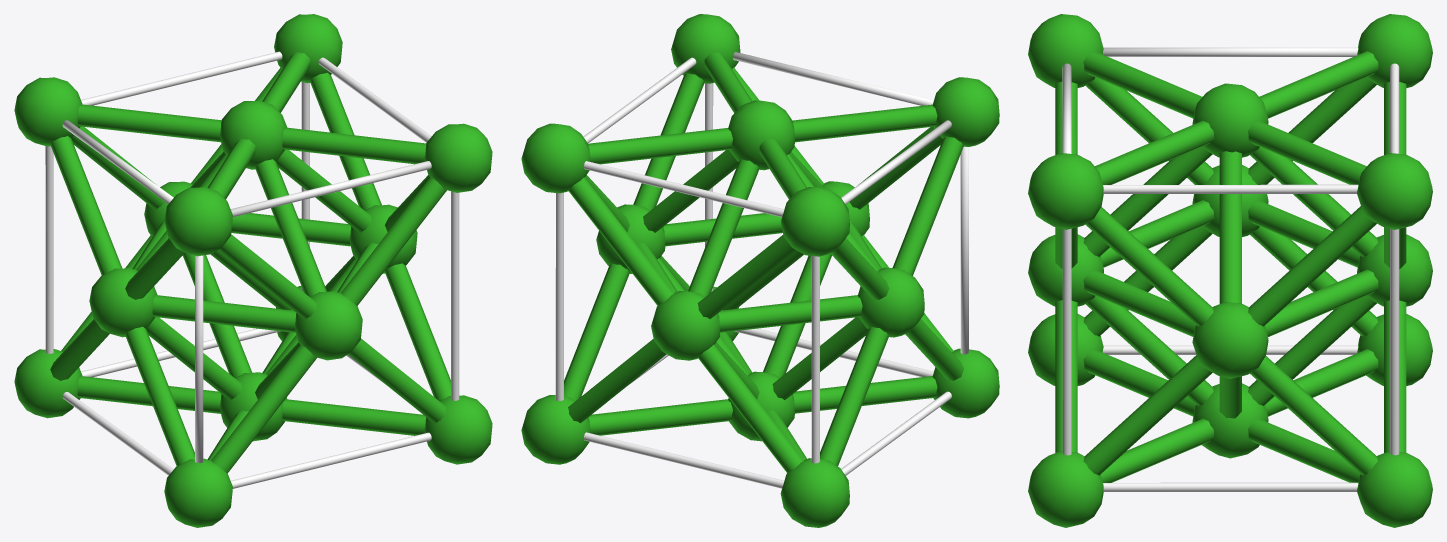
Rendered from NIQUEL.fbx.
3 views of the same model, side by side, from view 1: azimuth 30°, elevation 25°; view 2: azimuth 150°, elevation 25°; view 3: azimuth 270°, elevation 25° (orthographic). The views are drawn at different scales.
Parts seen in each view (by area): view 1: Ni, limite.009; view 2: Ni, limite.009; view 3: Ni, limite.009.
Boxes of the visible parts, bbox=[...] form: Ni: bbox=[14, 14, 492, 527]; limite.009: bbox=[45, 51, 459, 488]; Ni: bbox=[521, 14, 999, 527]; limite.009: bbox=[555, 52, 968, 488]; Ni: bbox=[1028, 14, 1432, 527]; limite.009: bbox=[1062, 47, 1399, 491].
Bounding box in the file's own units: 17.4 × 17.5 × 17.49.
